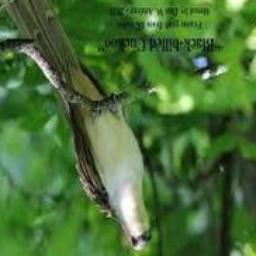Cuckoo: (0, 0, 152, 250)
